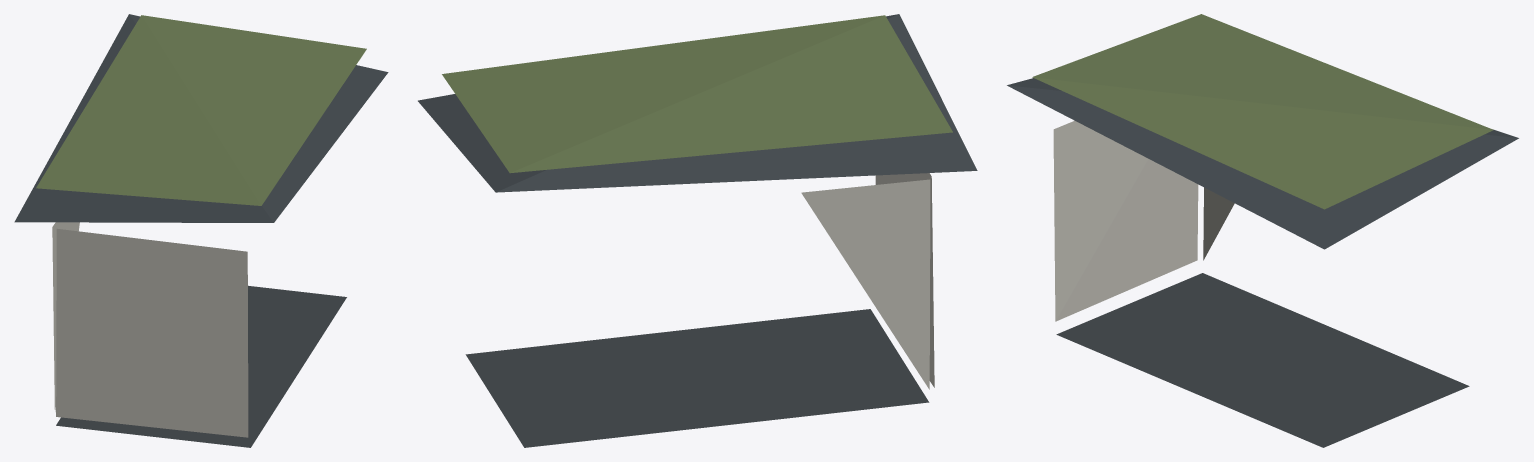
File: kiosk-dumplings-nassauplein.lod2.glb
3 renders of one model, left to right at view 1: azimuth 30°, elevation 25°; view 2: azimuth 150°, elevation 25°; view 3: azimuth 270°, elevation 25°, orthographic. The views are drawn at different scales.
Parts seen in each view (by area): view 1: lod2; view 2: lod2; view 3: lod2.
Boxes of the visible parts, box(x1,y1,x2,y2) form: lod2: box(14, 14, 388, 447); lod2: box(418, 14, 977, 447); lod2: box(1007, 14, 1518, 447).
Bounding box in the file's own units: 5.71 × 3.15 × 5.7.
